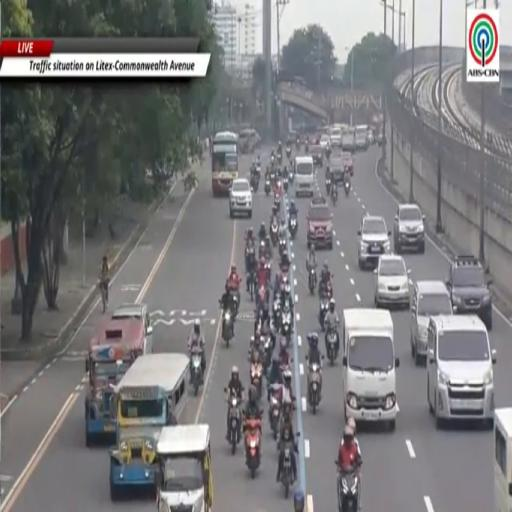bus: (494, 408, 511, 511), (212, 132, 239, 196)
car: (427, 315, 496, 428), (411, 281, 452, 365), (447, 255, 492, 330), (111, 303, 153, 351), (374, 254, 410, 308), (358, 216, 390, 269), (393, 204, 425, 254), (307, 199, 332, 249), (230, 179, 252, 218), (327, 156, 344, 185), (309, 144, 324, 167), (341, 152, 353, 177), (330, 127, 342, 147), (319, 134, 330, 150), (310, 195, 326, 205), (367, 130, 374, 145)
jeepney: (110, 354, 188, 501), (85, 317, 150, 446), (157, 425, 213, 511), (330, 156, 344, 185)
motorcycle: (245, 419, 261, 477), (338, 468, 359, 511), (281, 442, 294, 499), (229, 396, 241, 454), (269, 389, 281, 440), (309, 363, 321, 414), (190, 348, 202, 396), (326, 327, 338, 365), (251, 361, 263, 399), (222, 309, 233, 347), (281, 308, 291, 345), (263, 335, 272, 372), (319, 297, 328, 330), (247, 269, 255, 301), (309, 265, 317, 295), (273, 300, 281, 329), (258, 286, 267, 310), (270, 222, 278, 247), (231, 292, 239, 316), (289, 215, 297, 239), (330, 184, 338, 206), (280, 268, 288, 289), (265, 259, 271, 282), (251, 172, 258, 191), (279, 237, 286, 255), (289, 162, 294, 184), (264, 179, 270, 196), (274, 195, 280, 212), (344, 180, 350, 197), (326, 176, 331, 195), (327, 281, 332, 299), (270, 170, 275, 184), (277, 152, 282, 166), (325, 148, 331, 159), (283, 178, 288, 191), (256, 165, 261, 177), (286, 147, 291, 159), (296, 138, 300, 151), (271, 155, 275, 166)
